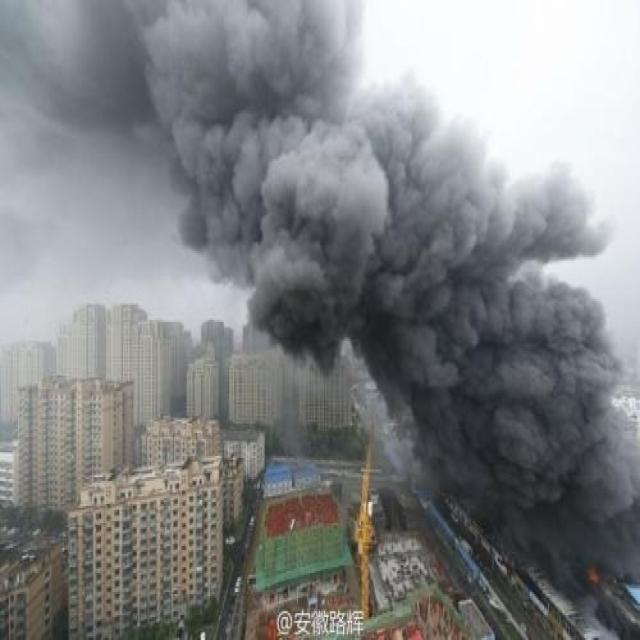Smoke: (121, 2, 640, 640)
